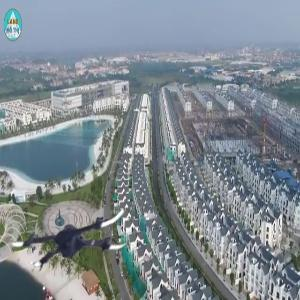drone: (13, 171, 131, 289)
